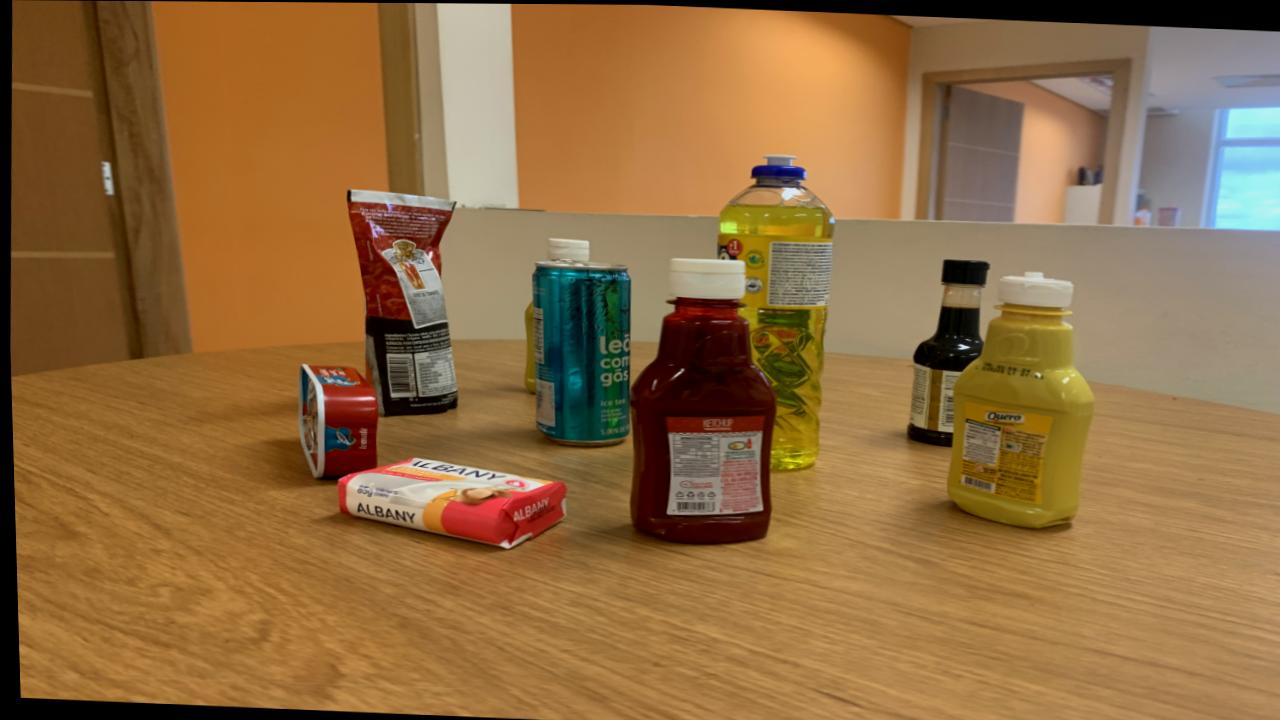Detergent-Cleanup_Items: (717, 153, 833, 469)
English_Sauce-Pantry_Items: (905, 258, 987, 445)
Ketchup-Pantry_Items: (627, 257, 773, 543)
Mustard-Pantry_Items: (945, 269, 1091, 526), (523, 303, 541, 391), (545, 236, 587, 264)
Soap-Cleanup_Items: (336, 457, 564, 547)
Tea-Drinks: (531, 259, 629, 444)
Tomato_Sauce-Pantry_Items: (347, 189, 455, 415)
Tuna_Can-Pantry_Items: (297, 365, 375, 478)
